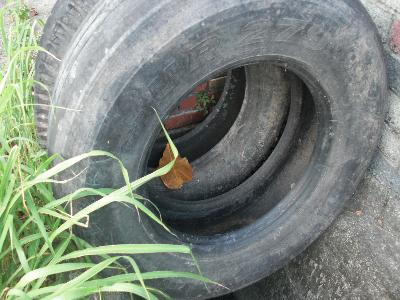tire: (46, 1, 391, 300)
